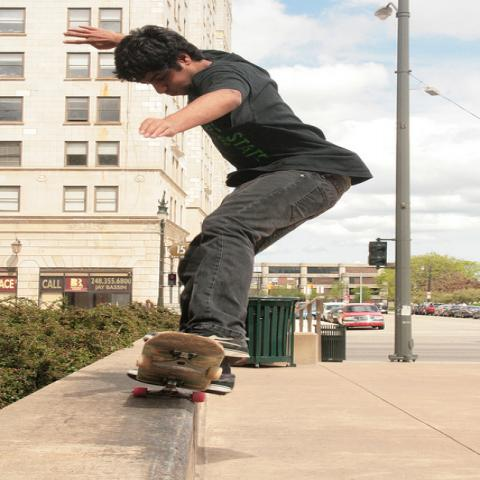car: (337, 303, 384, 330), (321, 302, 346, 322), (295, 301, 317, 319), (445, 304, 463, 318), (372, 301, 389, 314), (425, 303, 443, 315), (454, 310, 474, 318), (435, 305, 450, 315), (472, 309, 480, 319), (411, 304, 418, 314)
